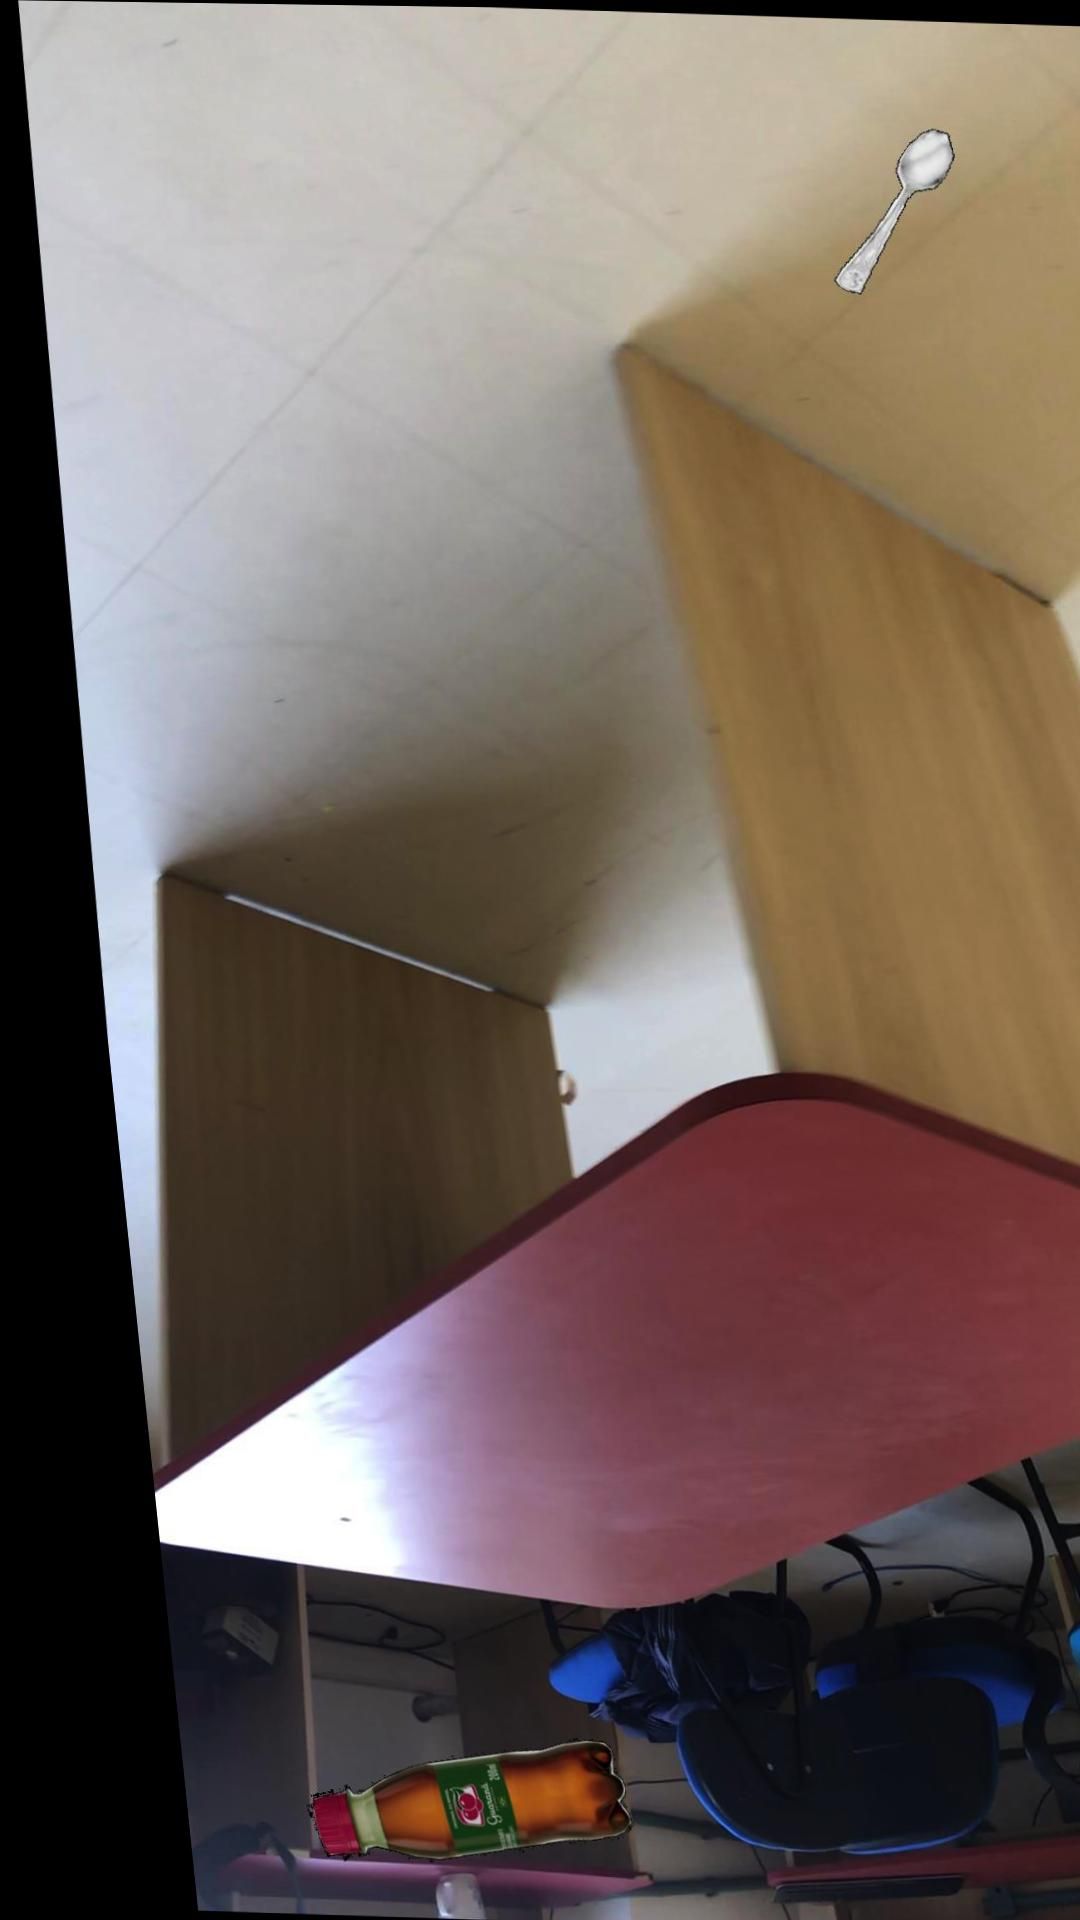guarana: (269, 1738, 593, 1862)
spoon: (828, 127, 952, 291)
